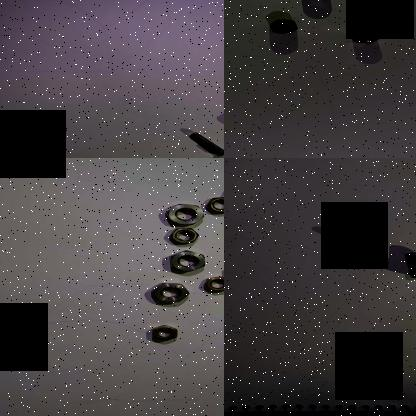Bolts: (324, 233, 360, 265), (186, 132, 224, 158), (388, 250, 416, 281)
NUTS: (150, 280, 193, 306), (161, 203, 207, 227), (163, 250, 208, 274), (163, 225, 201, 245), (146, 324, 182, 344), (264, 19, 300, 38), (346, 28, 379, 47), (197, 275, 224, 295), (208, 194, 224, 215), (376, 0, 408, 7)
